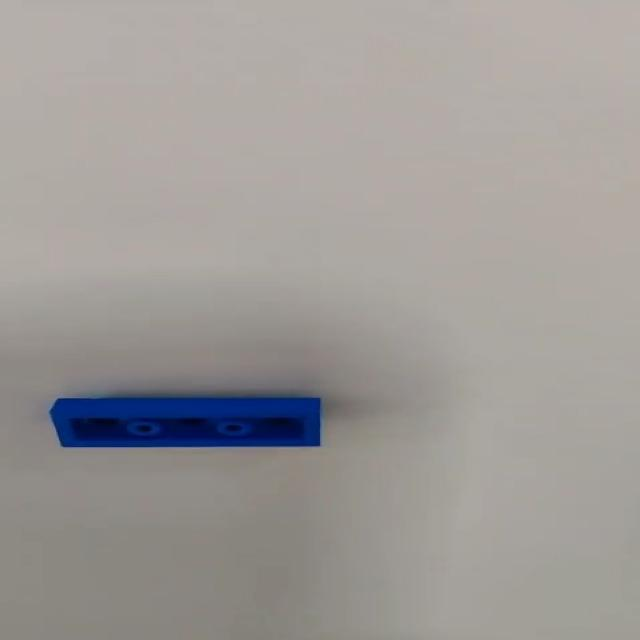C3x1x0: (47, 393, 327, 451)
